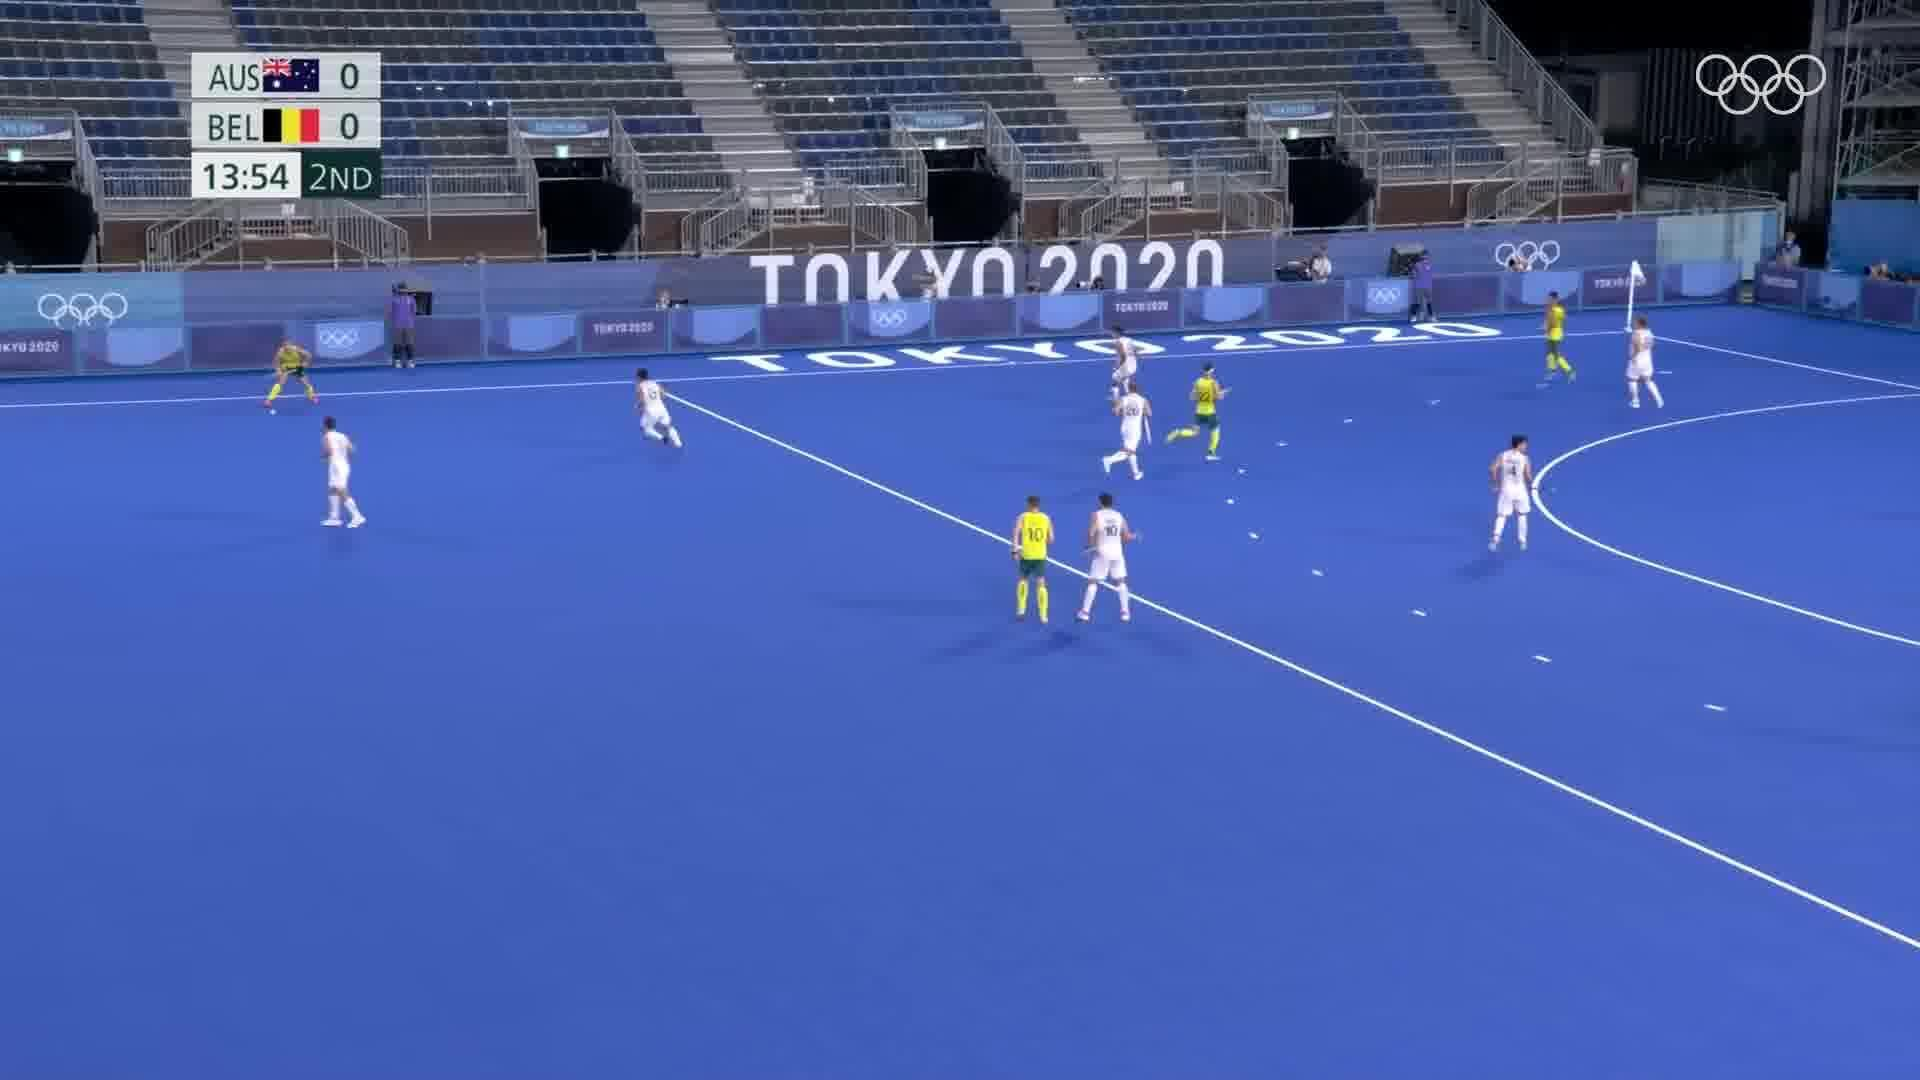ball: (266, 406, 280, 419)
